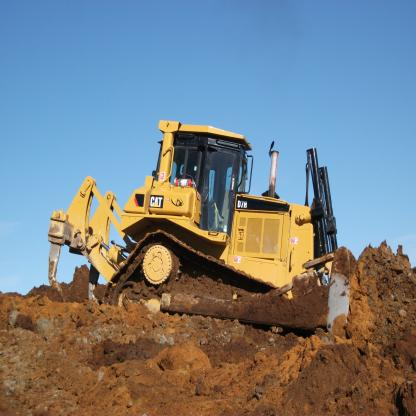bull_dozer/loader/grader: (52, 103, 381, 353)
